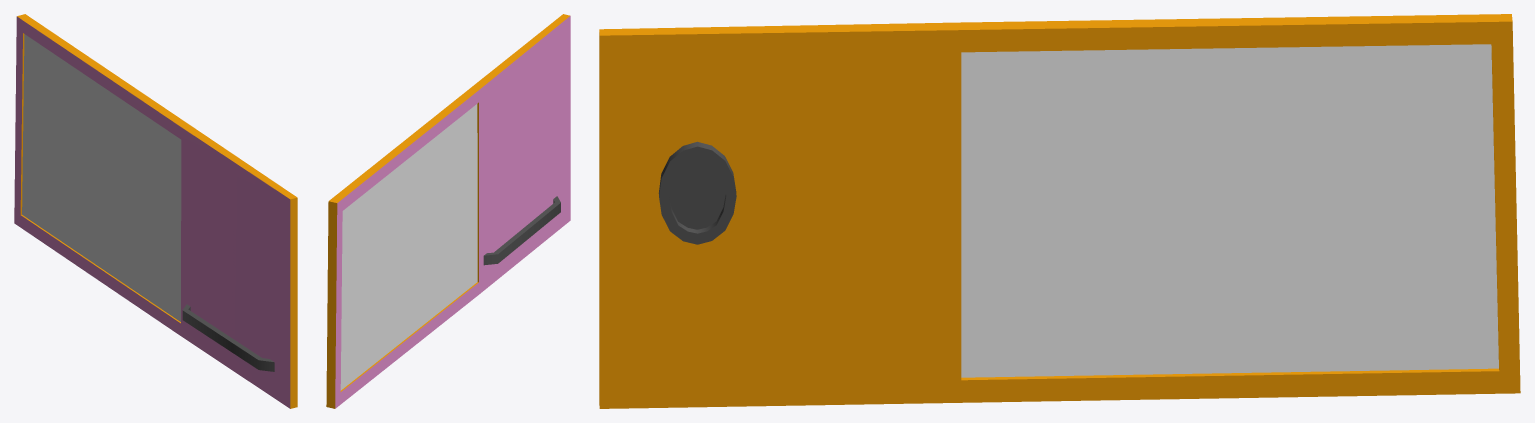
The model's file is WheelLoader_Cabin_01_DoorLeft.fbx.
3 renders of one model, left to right at view 1: azimuth 30°, elevation 25°; view 2: azimuth 150°, elevation 25°; view 3: azimuth 270°, elevation 25°, orthographic. The views are drawn at different scales.
Visible parts, largest first — view 1: WheelLoader_Cabin_01_Door_L; view 2: WheelLoader_Cabin_01_Door_L; view 3: WheelLoader_Cabin_01_Door_L.
Boxes of the visible parts, x1=… form: WheelLoader_Cabin_01_Door_L: x1=14, y1=14, x2=297, y2=408; WheelLoader_Cabin_01_Door_L: x1=326, y1=14, x2=570, y2=408; WheelLoader_Cabin_01_Door_L: x1=599, y1=14, x2=1520, y2=408.
Bounding box in the file's own units: 0.1003 × 0.6852 × 1.53.
